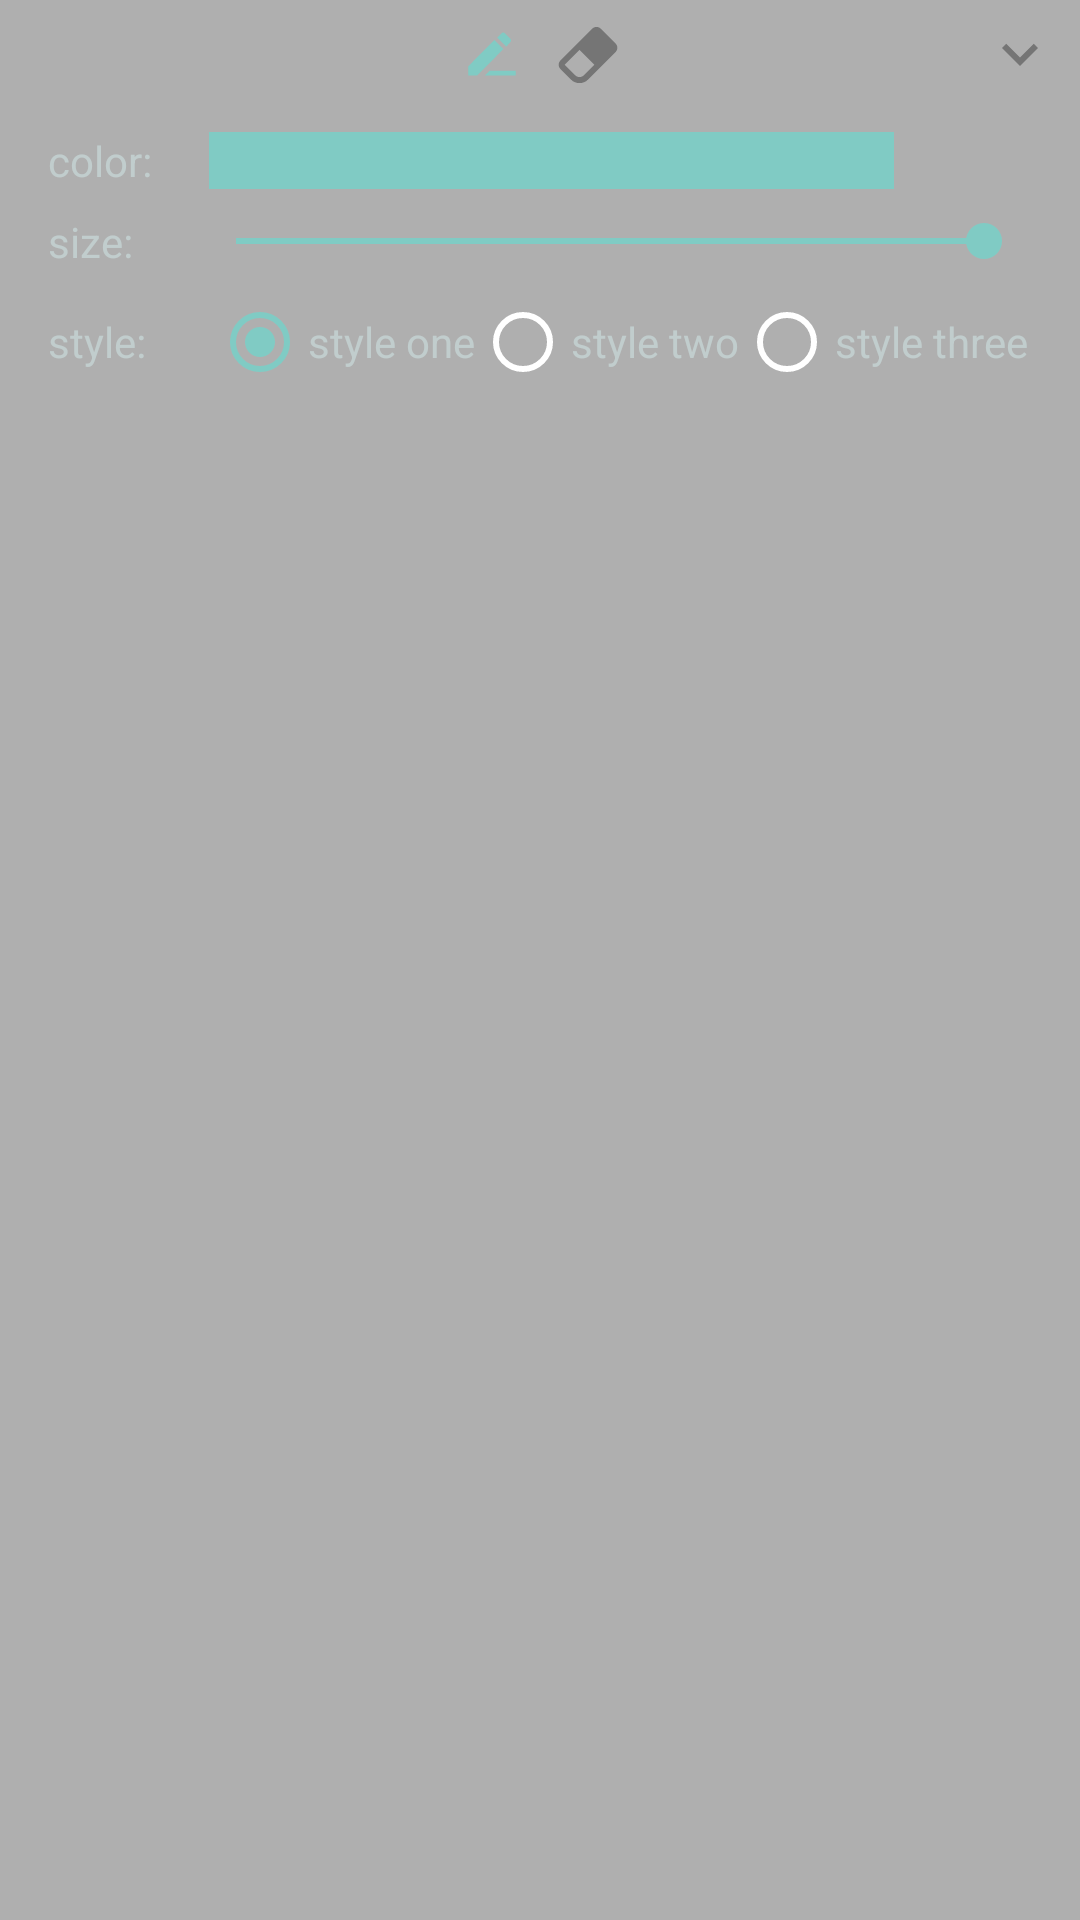

Icon click points for this 1080px×1920px phone screenshot, format point (x, y):
edit: point (492, 54)
erase: point (588, 55)
expand more: point (1020, 55)
